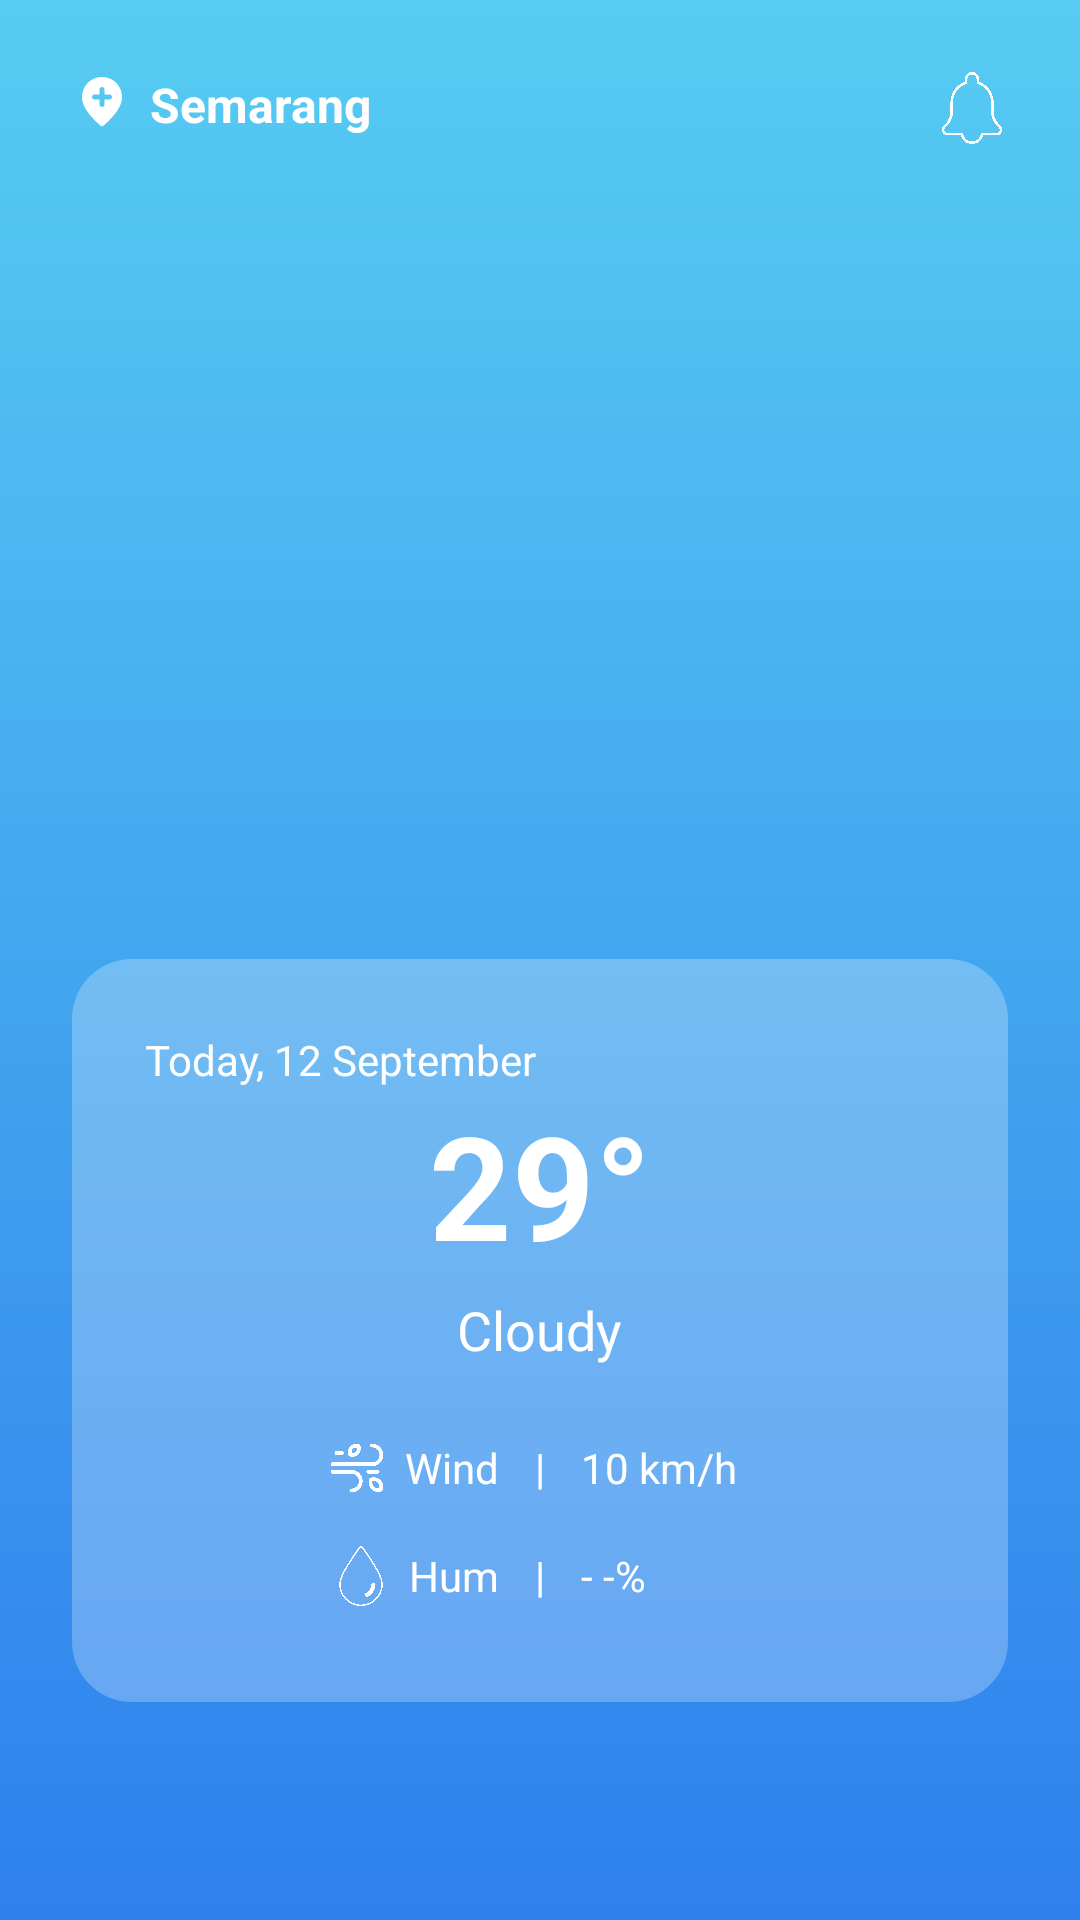

Locate icon controls on the screen. Image size 1080w x 1920h, boxes as [left=x1, top=y1, right=x2, bottom=y2].
humidity: [left=339, top=1546, right=383, bottom=1606]
location: [left=82, top=77, right=122, bottom=126]
notification: [left=942, top=72, right=1002, bottom=144]
